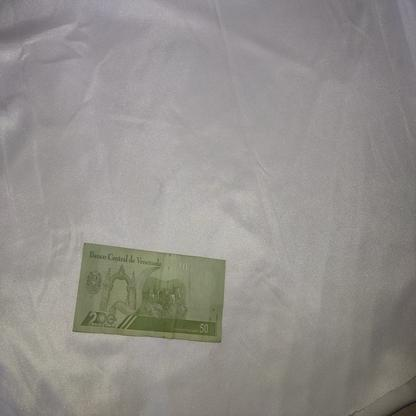fifty-back-vef: (71, 242, 226, 344)
